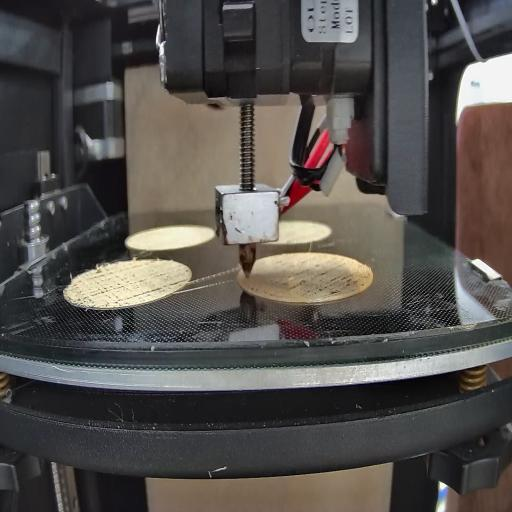under_extrusion: (276, 254, 367, 298), (70, 265, 162, 308), (247, 275, 271, 298), (168, 270, 188, 294)
